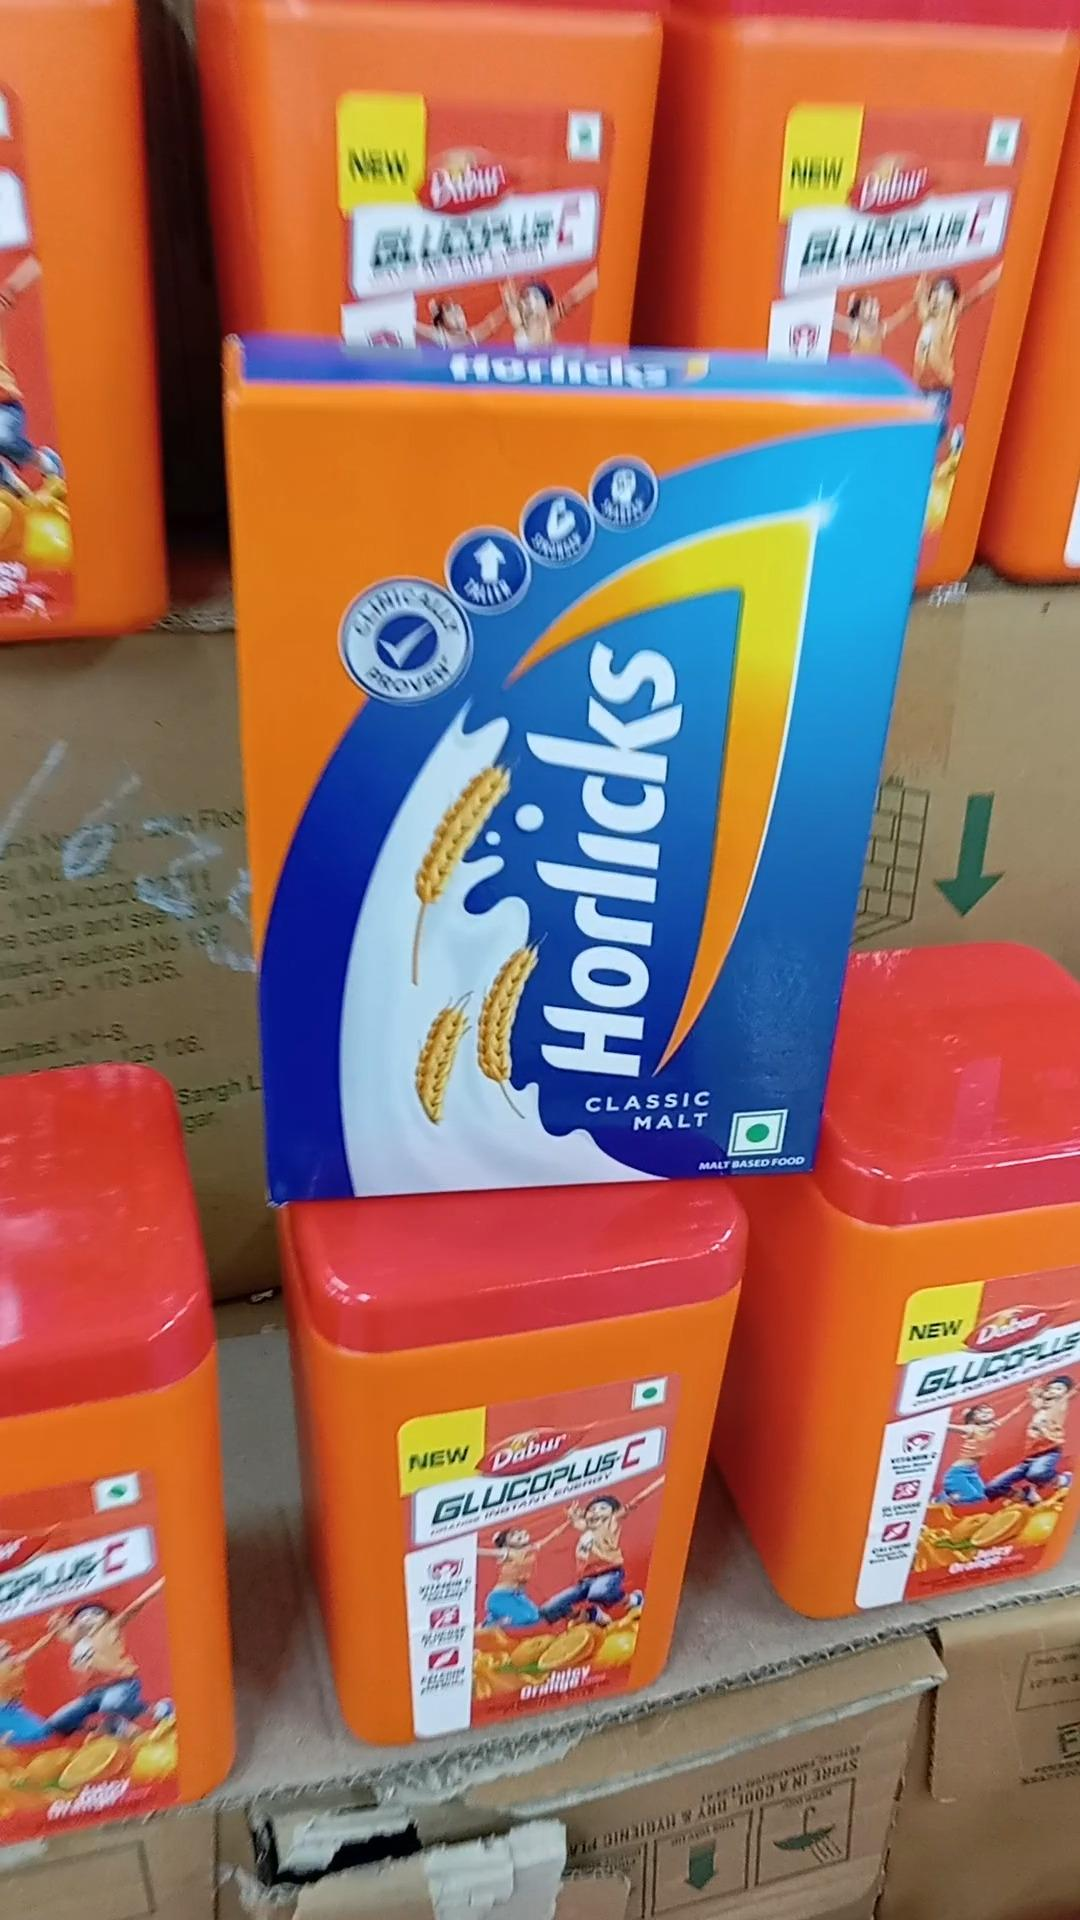HORLICK_CLASSIC_MALT_500_G_PACK: (225, 402, 940, 1204)
